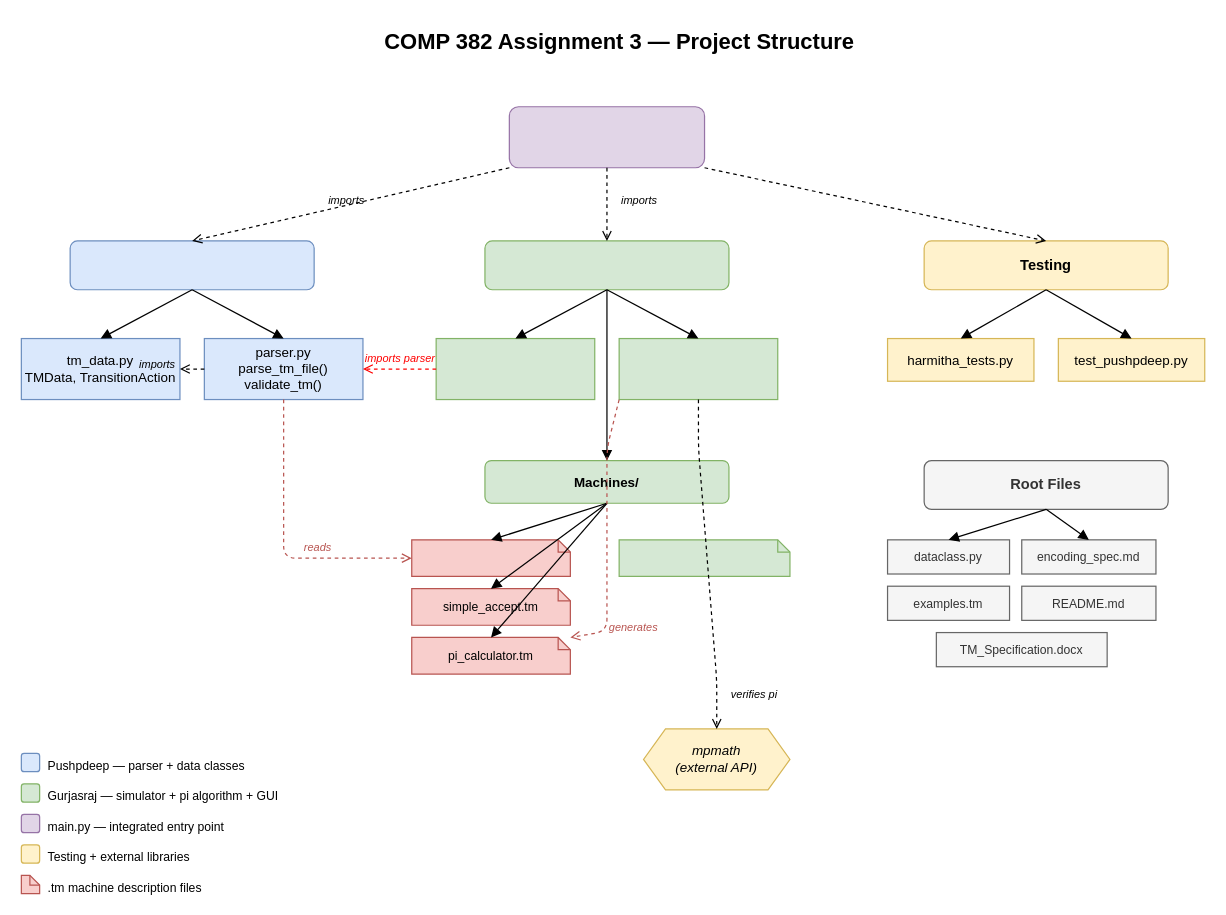
The diagram is 1226 pixels wide and 915 high, and some of its shapes have lost their labels. Each missing label, with the centre of its shape:
"binary_increment.tm" belongs at point 490,557.
"Gurjasraj/" belongs at point 606,265.
"main.py (entry point)" belongs at point 606,137.
"pi_algorithm.py spigot_pi() generate_pi_tm()" belongs at point 698,368.
"Pushpdeep/" belongs at point 191,265.
"simulator.py Tape, TMSimulator" belongs at point 515,368.
"tm_simulator_gui.html" belongs at point 704,557.
